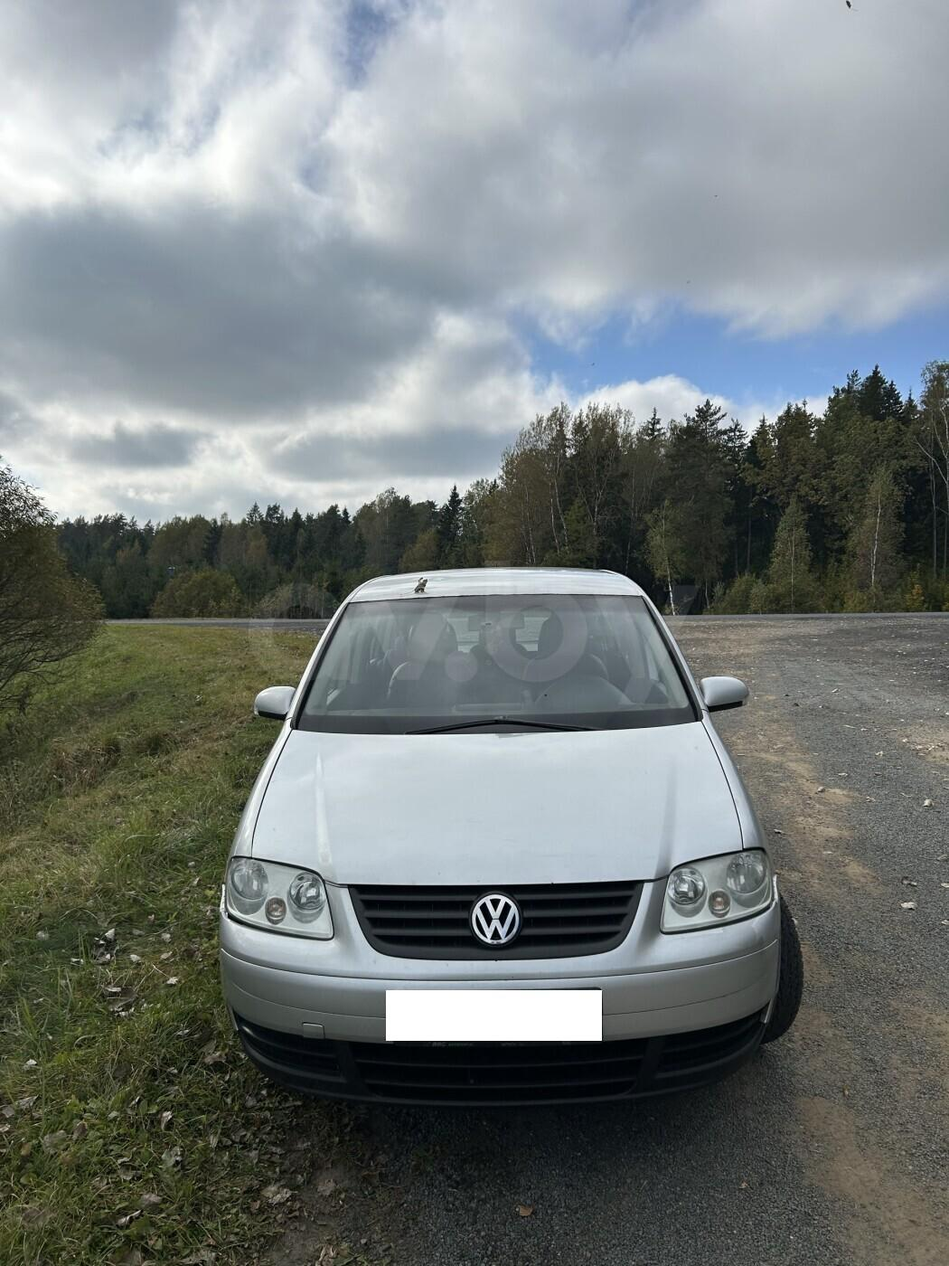Touran_2003-2006: (213, 564, 806, 1092)
